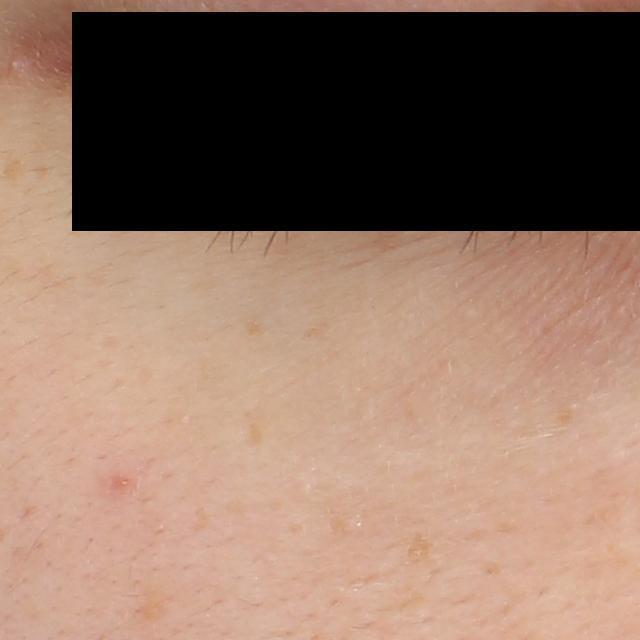melasma: (366, 206, 419, 246), (244, 316, 265, 336)
